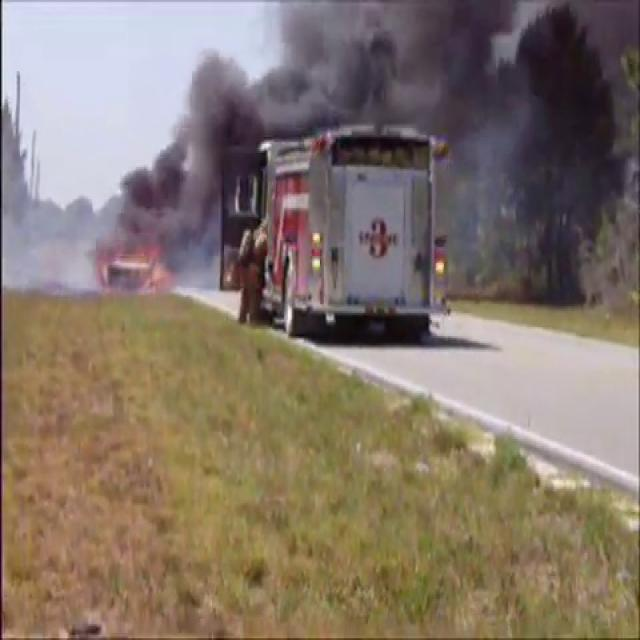Smoke: (245, 0, 640, 260)
